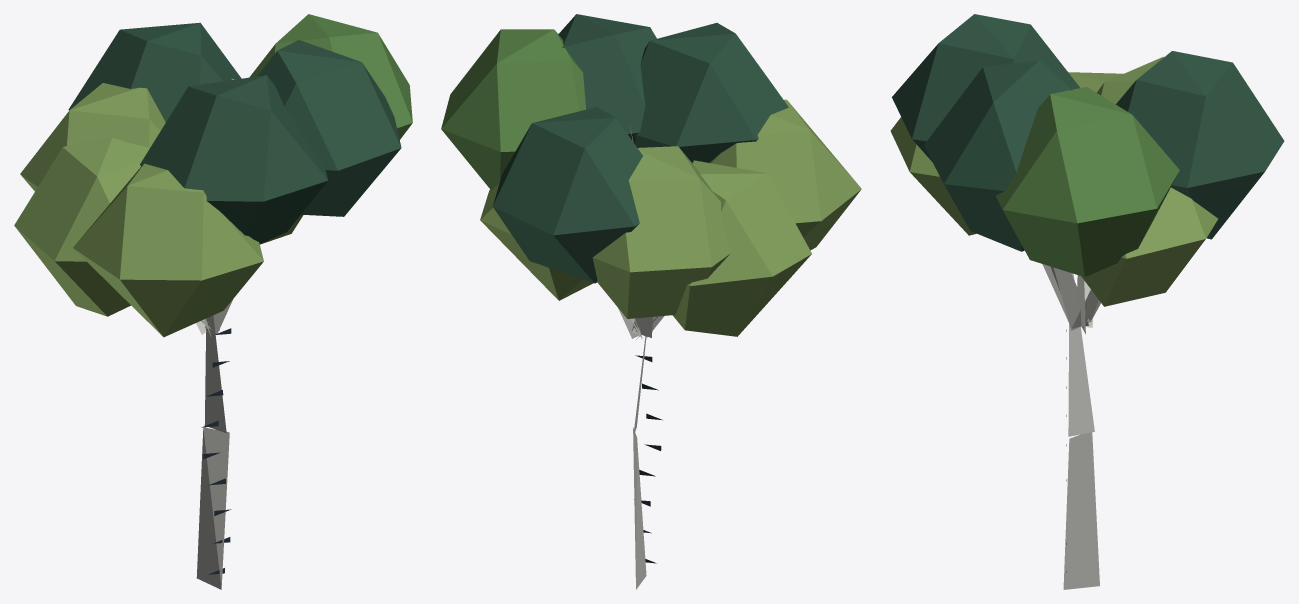
File: vegetation-birch.lod2.glb
The picture shows the model from 3 angles, left to right: view 1: azimuth 30°, elevation 25°; view 2: azimuth 150°, elevation 25°; view 3: azimuth 270°, elevation 25°; orthographic projection. The views are drawn at different scales.
Visible parts, largest first — view 1: vegetation-birch__body; view 2: vegetation-birch__body; view 3: vegetation-birch__body.
Boxes of the visible parts, bbox=[...] form: vegetation-birch__body: bbox=[14, 14, 412, 589]; vegetation-birch__body: bbox=[441, 14, 861, 589]; vegetation-birch__body: bbox=[890, 14, 1284, 589].
Bounding box in the file's own units: 4.48 × 6.32 × 4.09.
